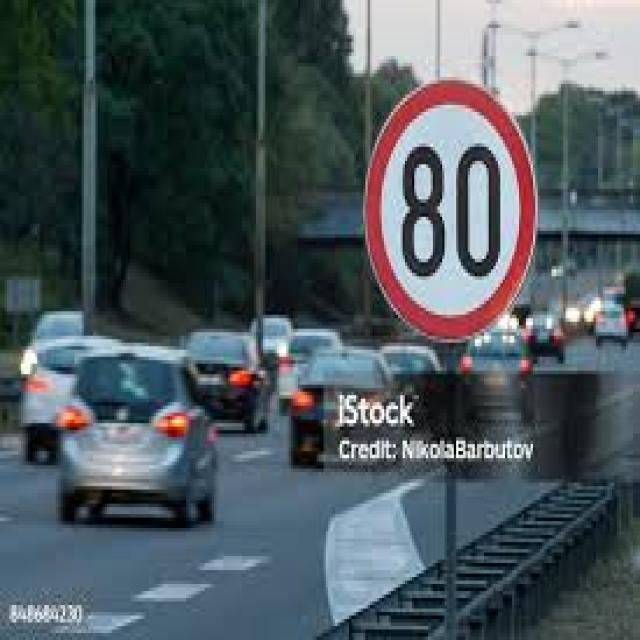speed_80: (365, 79, 536, 341)
